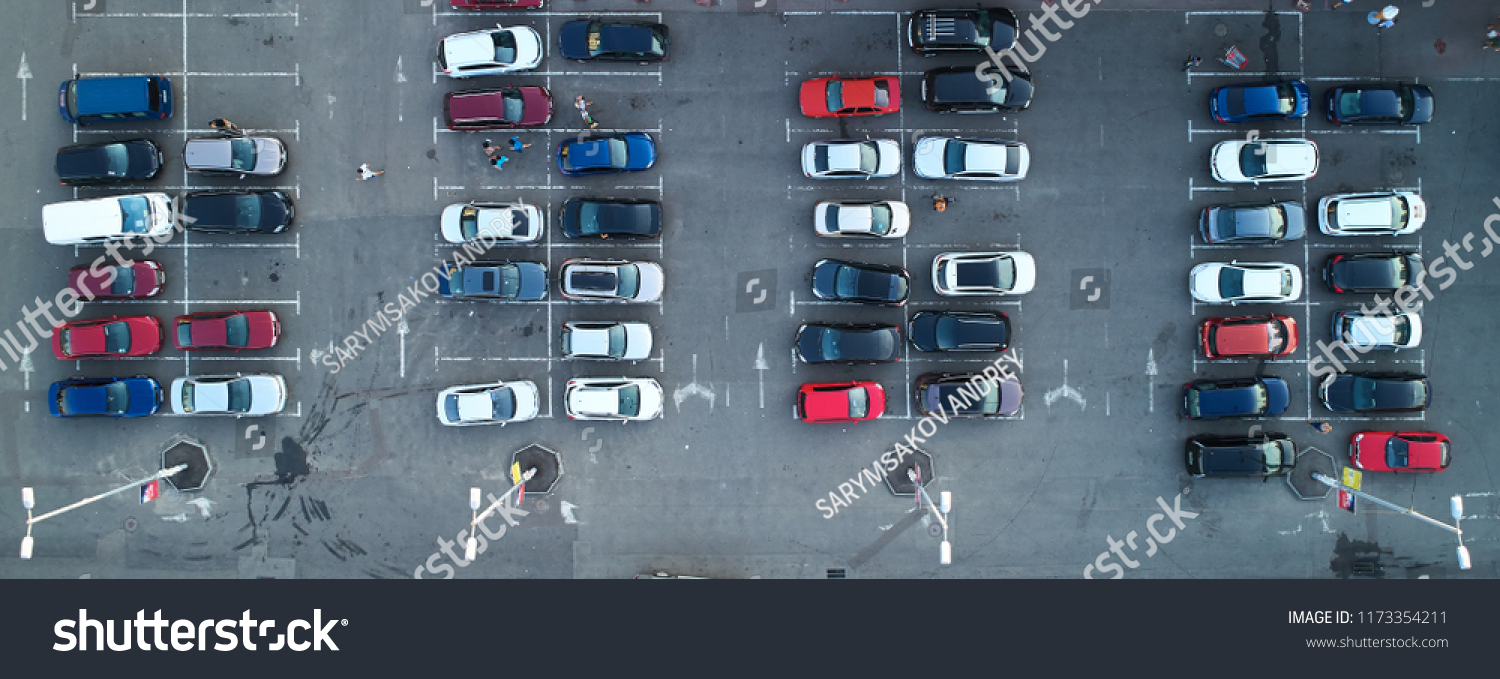Car: (41, 190, 177, 250), (55, 73, 177, 125), (50, 311, 165, 365), (54, 135, 166, 189), (1202, 134, 1324, 183), (1181, 430, 1300, 480), (910, 135, 1031, 184), (555, 255, 666, 307), (1197, 198, 1308, 250), (434, 23, 546, 74), (556, 16, 667, 67), (434, 378, 542, 430), (559, 373, 670, 423), (916, 65, 1034, 112), (791, 320, 901, 369), (1323, 249, 1428, 300), (181, 189, 297, 235), (908, 7, 1019, 55), (1324, 81, 1437, 128), (1186, 260, 1304, 305), (44, 374, 164, 418), (929, 250, 1039, 298), (1319, 370, 1433, 416), (170, 372, 291, 415), (912, 372, 1024, 418), (1196, 313, 1304, 360), (799, 137, 903, 185), (556, 195, 666, 240), (1183, 375, 1293, 420), (1319, 191, 1429, 236), (436, 259, 551, 302), (794, 72, 901, 118), (171, 309, 280, 353), (443, 85, 553, 128), (813, 258, 913, 305), (1206, 79, 1312, 123), (181, 134, 289, 177), (1346, 430, 1454, 473), (906, 310, 1011, 354), (556, 318, 658, 363), (437, 200, 544, 242), (809, 198, 911, 240), (1329, 306, 1425, 350), (70, 258, 169, 300), (554, 133, 658, 172), (794, 380, 886, 424)
